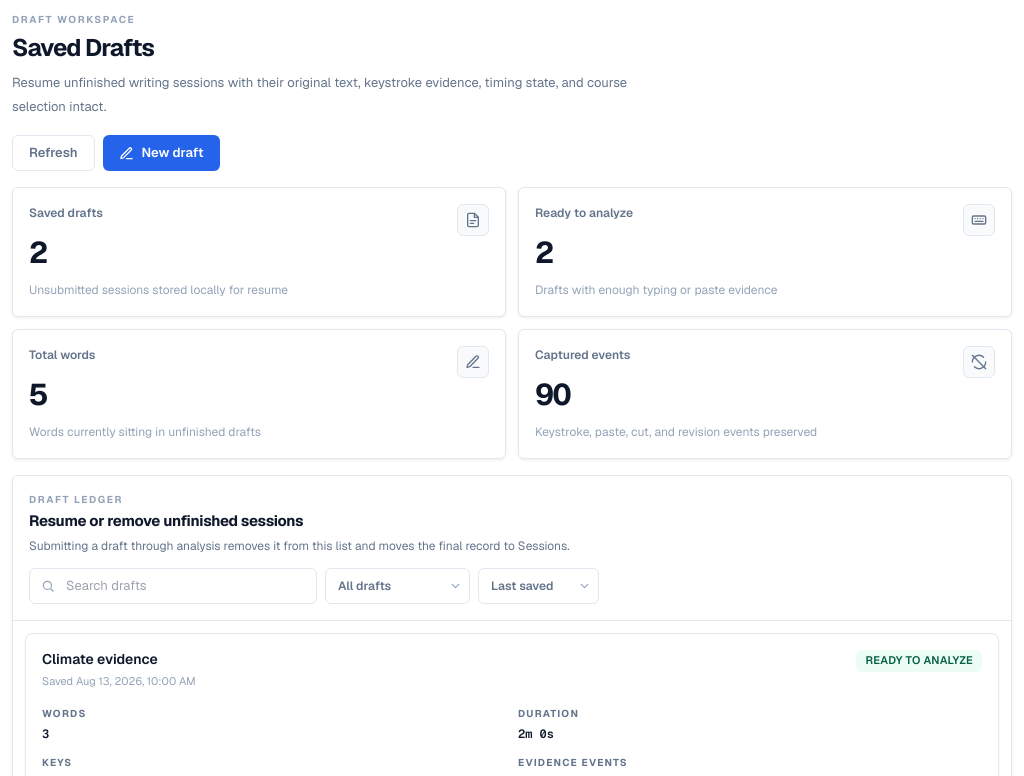
it: DraftsPage › filters drafts by search and restores the ledger when the query is cleared
The width and height of the screenshot is (1024, 776).
Type "history" into the field with placeholder "Search drafts" at (173, 586), box x1=29 y1=568 x2=317 y2=604
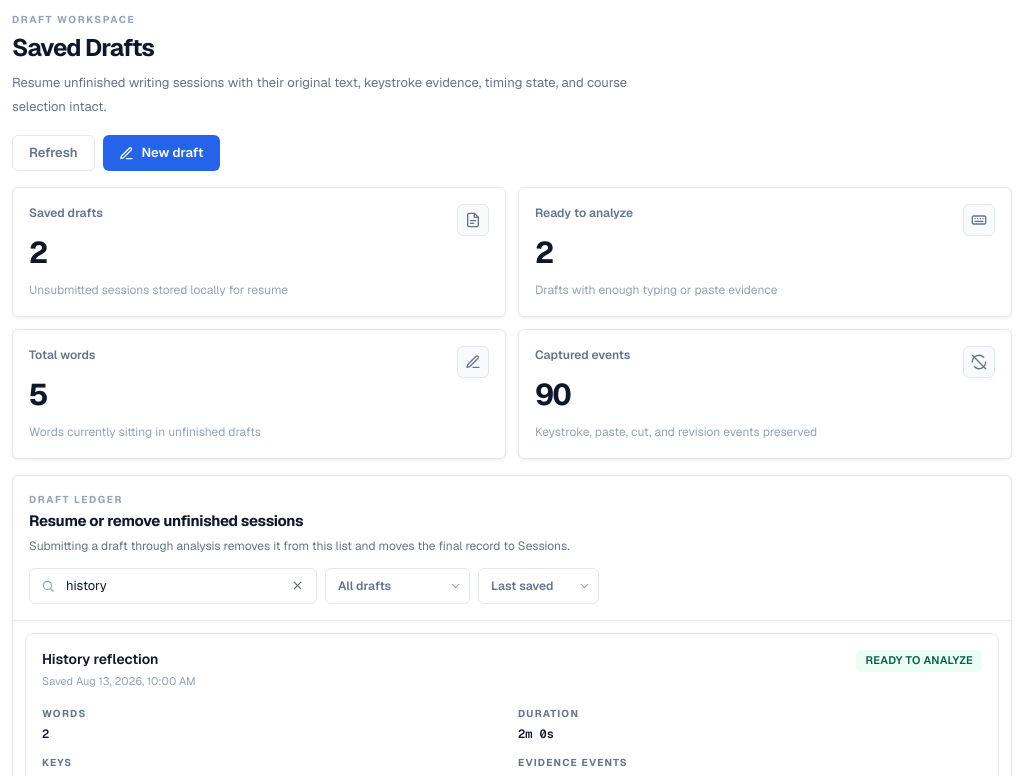
Expected: the heading "History reflection" is shown, x1=42 y1=650 x2=158 y2=668
Now the heading "Climate evidence" is gone
Click the button named "Clear search" at (297, 586), box x1=285 y1=574 x2=309 y2=598
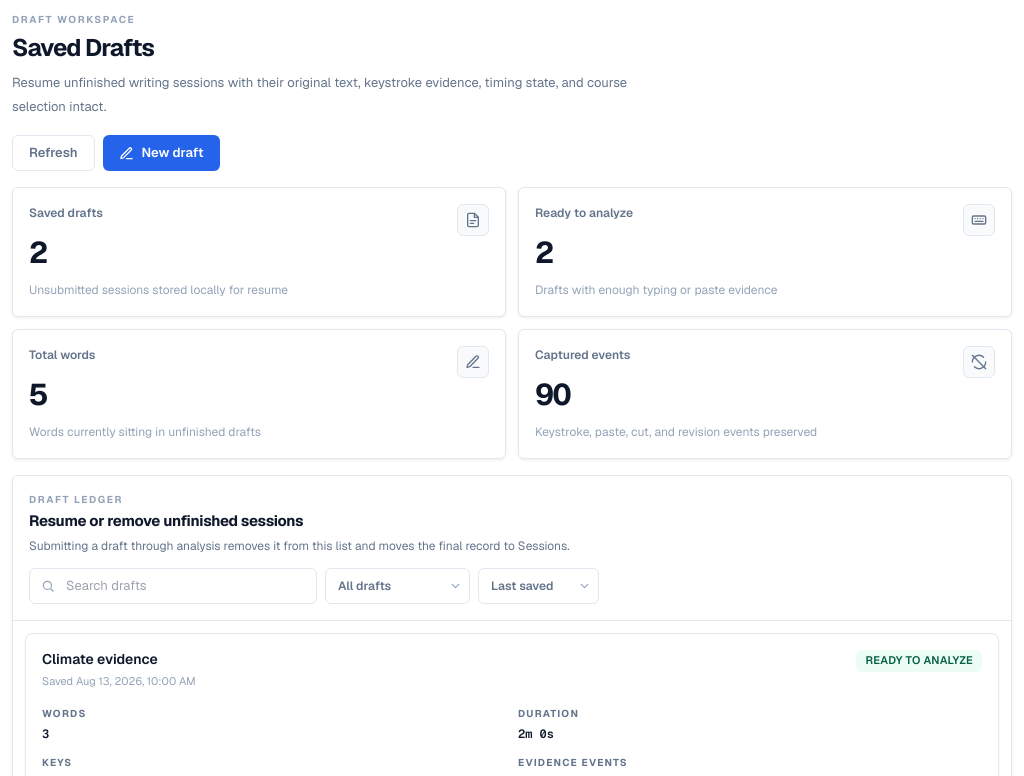
Now the heading "Climate evidence" is shown, box x1=42 y1=650 x2=158 y2=668
